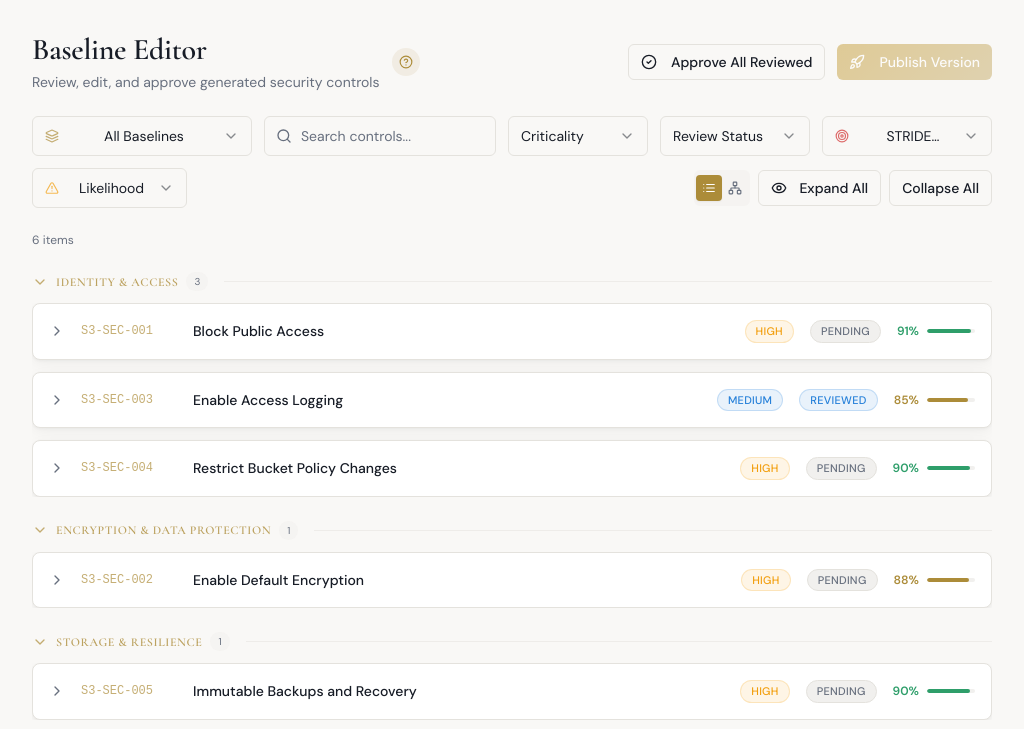
Test: BaselineEditor › clicking a control card expands it showing details
Expected: the text "S3-SEC-001" is shown, 81,324 -> 153,338
Click the button "S3-SEC-001": click(117, 331) 33,304 -> 991,358
(page scrolled)
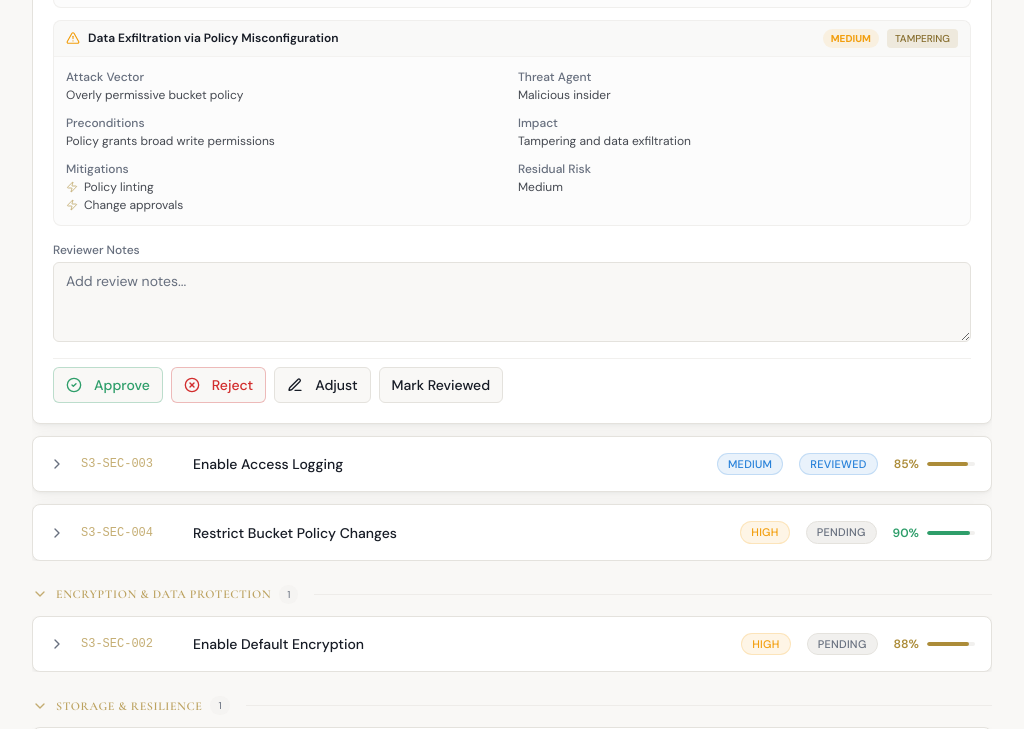
Now the button "Approve" is shown, box 53,367 -> 163,403
Now the button "Reject" is shown, box 171,367 -> 266,403
Now the button "Adjust" is shown, box 274,367 -> 371,403
